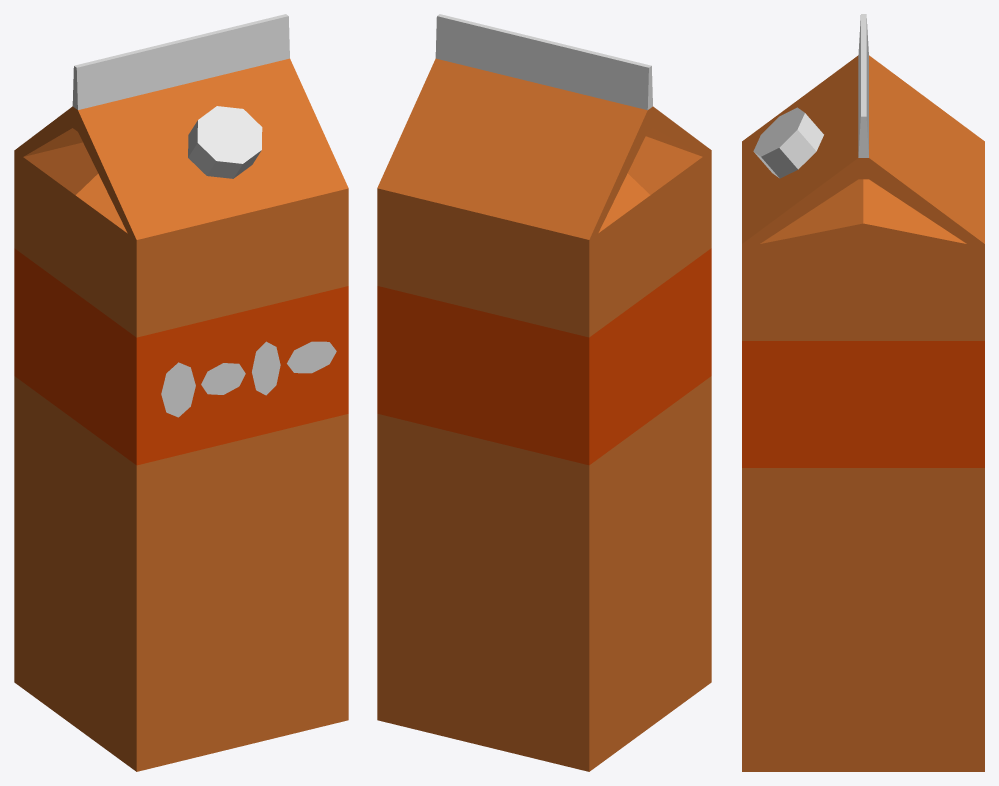
The model's file is Ma_Juice_3.fbx.
3 views of the same model, side by side, from view 1: azimuth 30°, elevation 25°; view 2: azimuth 150°, elevation 25°; view 3: azimuth 270°, elevation 25° (orthographic).
Visible parts, largest first — view 1: Ma_Juice_3; view 2: Ma_Juice_3; view 3: Ma_Juice_3.
Boxes of the visible parts, x1,y1,x2,y2 form: Ma_Juice_3: (14,14,348,771); Ma_Juice_3: (377,14,711,771); Ma_Juice_3: (742,14,984,771).
Size of the model in its own units: 74.74 by 75.33 by 222.
